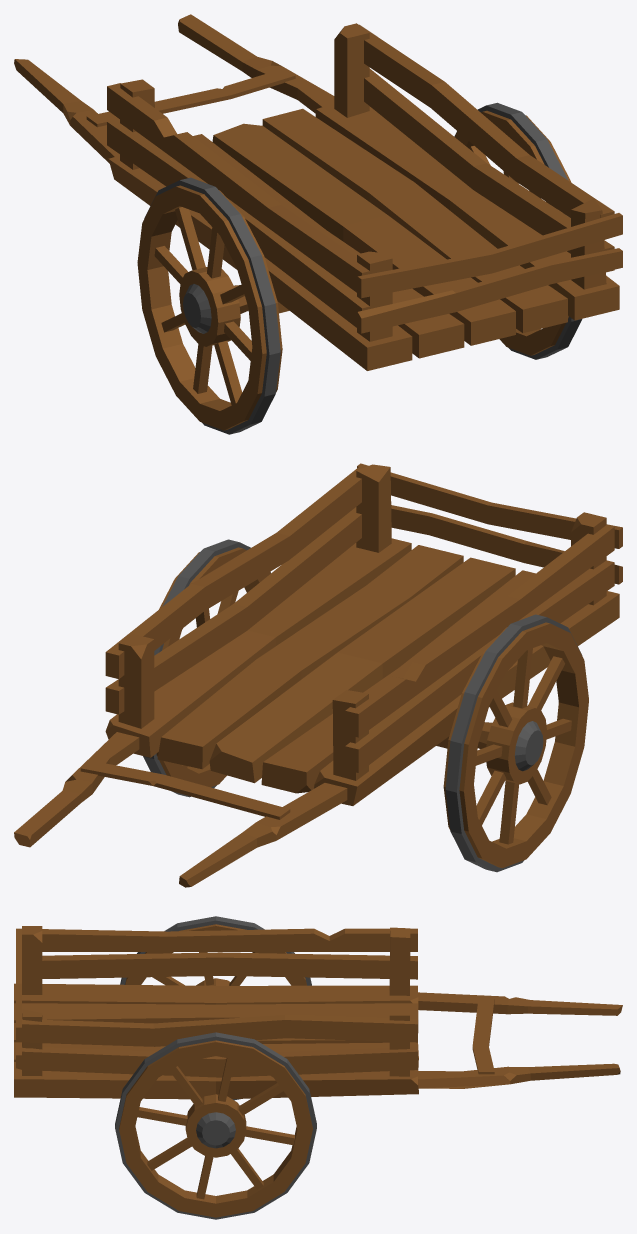
File: Cart.fbx
The picture shows the model from 3 angles, top to bottom: view 1: azimuth 30°, elevation 25°; view 2: azimuth 150°, elevation 25°; view 3: azimuth 270°, elevation 25°; orthographic projection. The views are drawn at different scales.
Visible parts, largest first — view 1: Cart, LeftWheel, RightWheel; view 2: Cart, LeftWheel, RightWheel; view 3: Cart, RightWheel, LeftWheel.
Boxes of the visible parts, x1,y1,x2,y2 form: Cart: (14, 14, 622, 370); LeftWheel: (137, 177, 282, 434); RightWheel: (454, 102, 582, 359); Cart: (14, 463, 622, 887); LeftWheel: (443, 614, 588, 872); RightWheel: (143, 539, 270, 797); Cart: (14, 926, 622, 1099); RightWheel: (115, 1032, 316, 1219); LeftWheel: (120, 916, 311, 1100).
Size of the model in its own units: 1.52 by 1.03 by 3.01.
